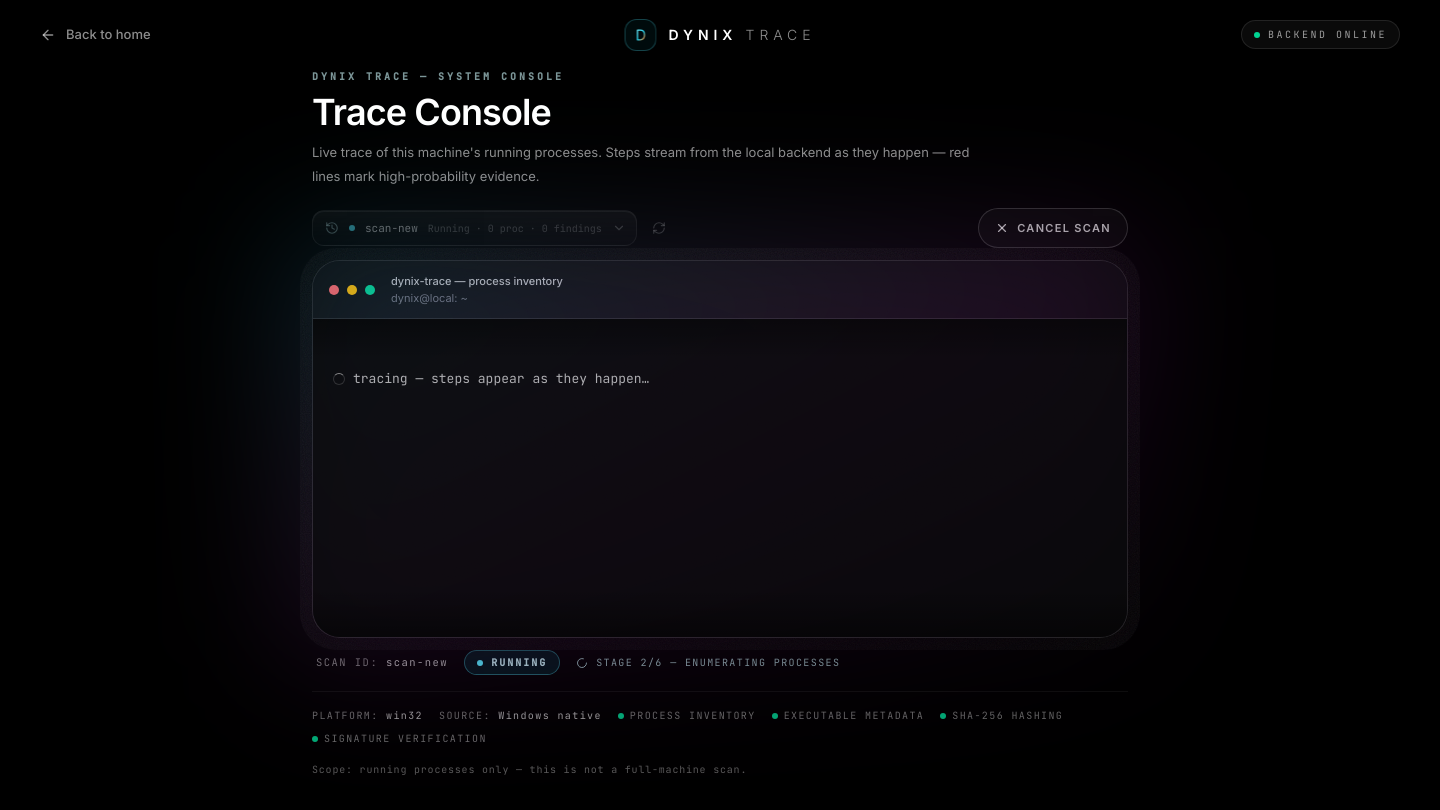
Test: ConsoleView live terminal › cancels a running scan only after explicit confirmation
Check: the element with test id "terminal-busy" is shown, box 333,370 -> 649,387
Click the button "Cancel scan" at (1053, 228), box 978,208 -> 1128,248
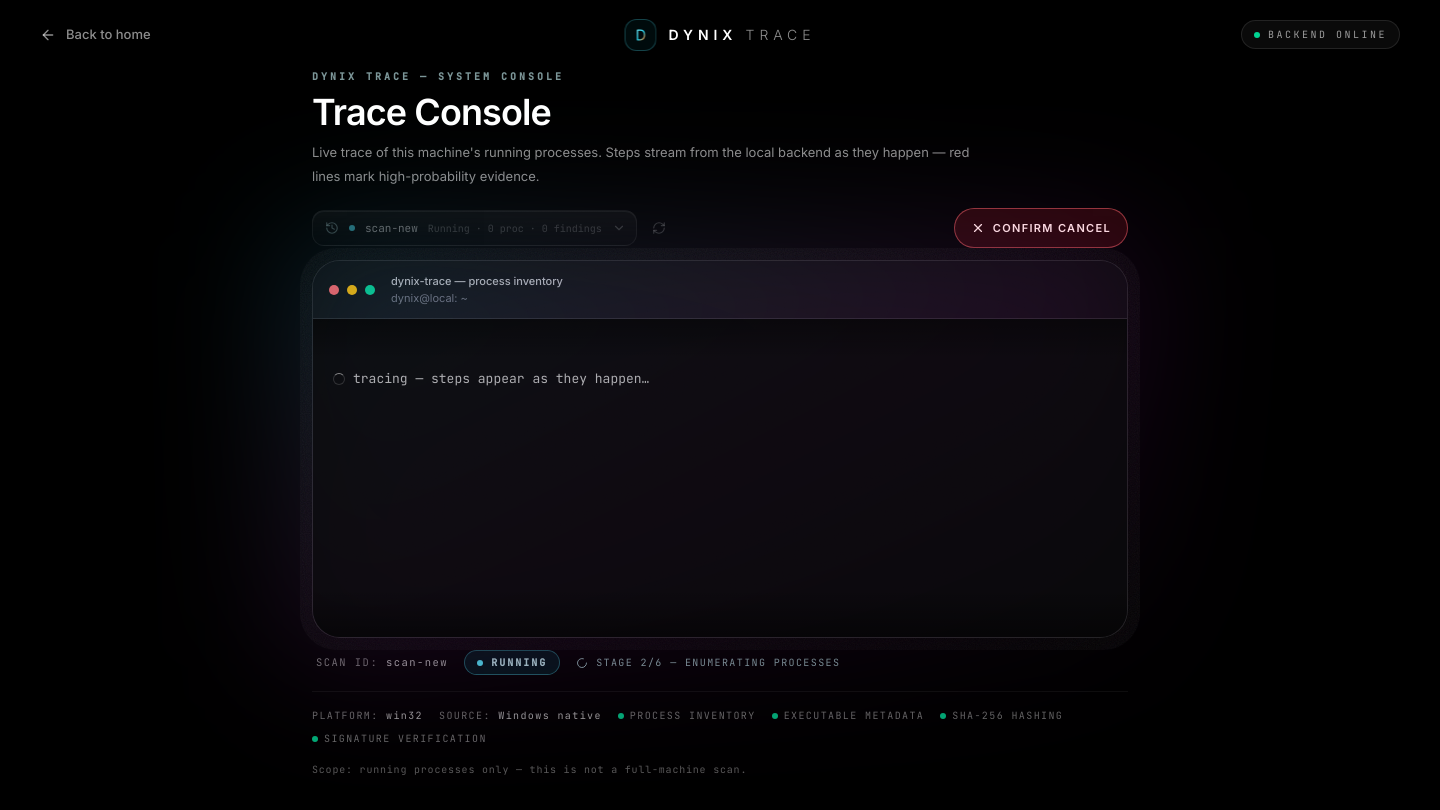
Click the button "Confirm cancel" at (1041, 228), box 954,208 -> 1128,248
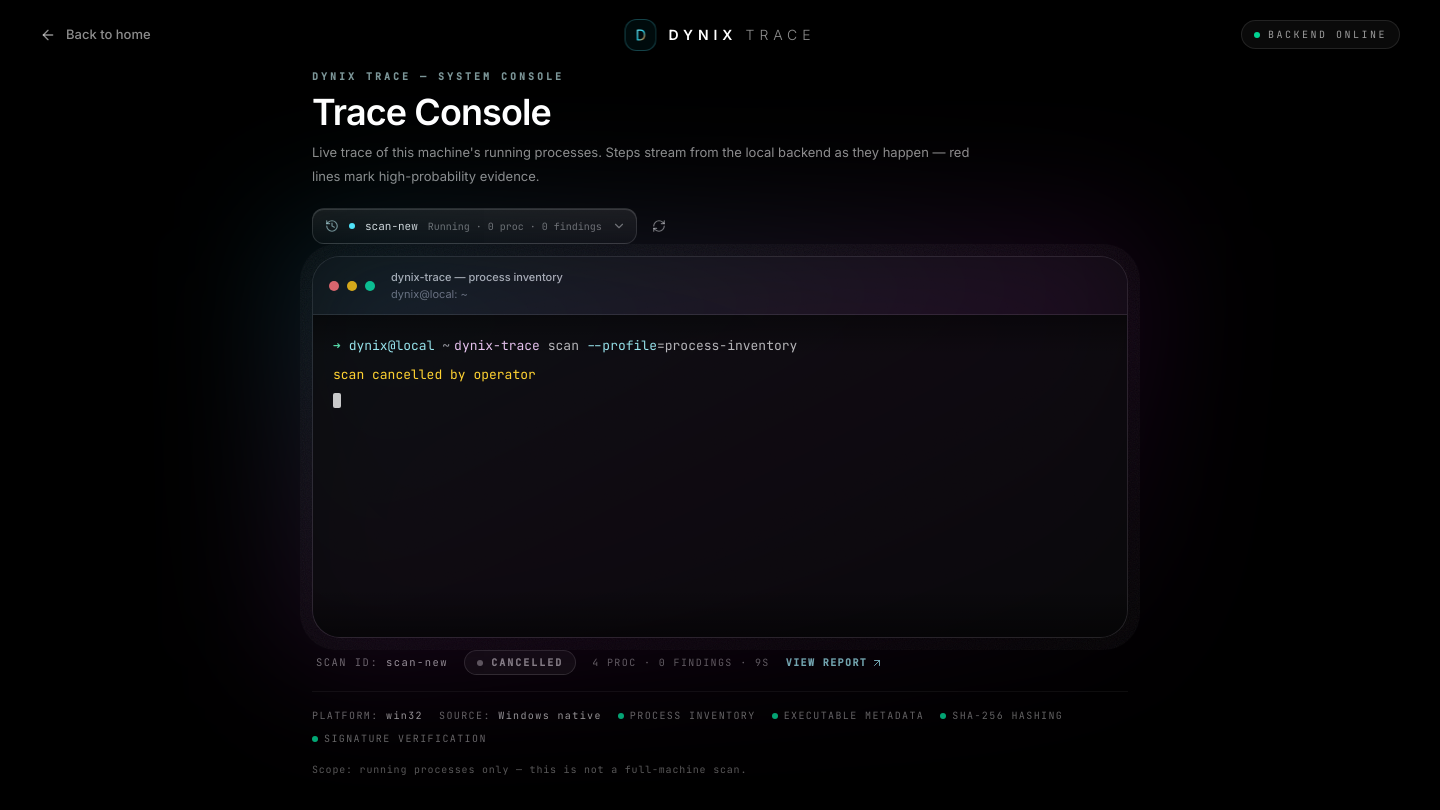
Check: the button "Cancel scan" is not shown
Check: the text "scan cancelled by operator" is shown, box 333,366 -> 536,383
